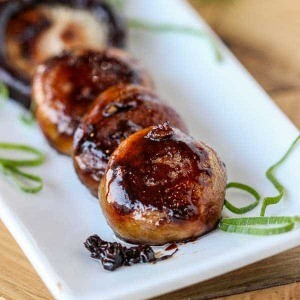mushroom_brain food: (51, 48, 175, 238)
